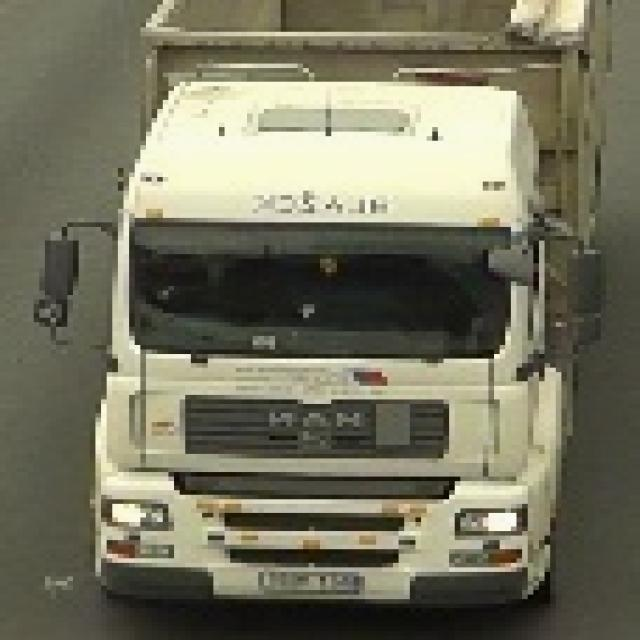TRUCK: (76, 7, 598, 620)
